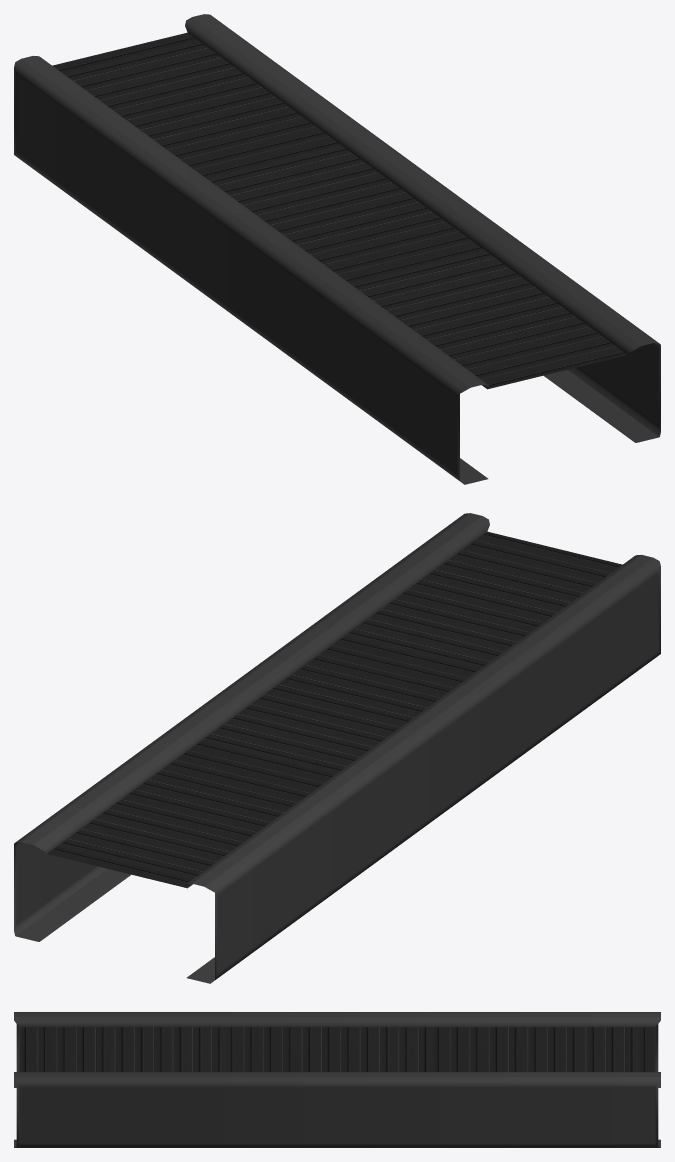
Rendered from all_assets_v1.fbx.
The picture shows the model from 3 angles, top to bottom: view 1: azimuth 30°, elevation 25°; view 2: azimuth 150°, elevation 25°; view 3: azimuth 270°, elevation 25°; orthographic projection. The views are drawn at different scales.
Visible parts, largest first — view 1: kenar, tiling; view 2: kenar, tiling; view 3: kenar, tiling.
Boxes of the visible parts, bbox=[...] form: kenar: bbox=[14, 14, 660, 484]; tiling: bbox=[52, 32, 627, 388]; kenar: bbox=[14, 513, 660, 983]; tiling: bbox=[47, 531, 622, 887]; kenar: bbox=[14, 1012, 660, 1147]; tiling: bbox=[20, 1027, 654, 1071].
Size of the model in its own units: 475 by 224 by 1838.
2 materials, 2 textured.
